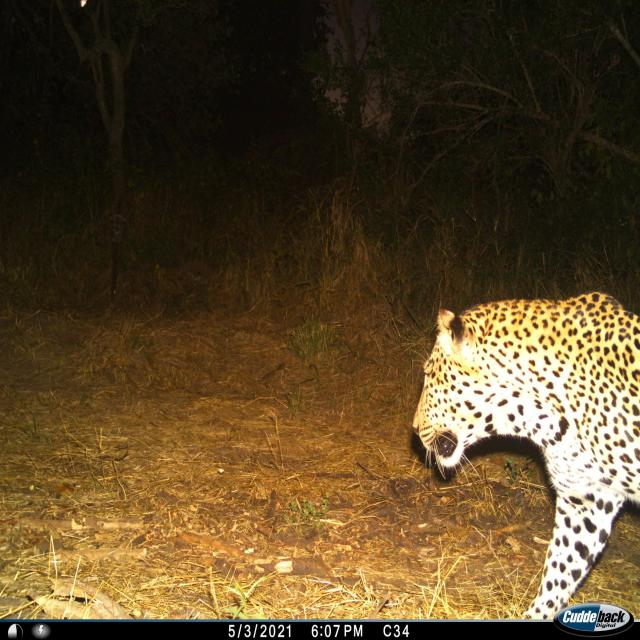Leopard: (402, 265, 640, 640)
